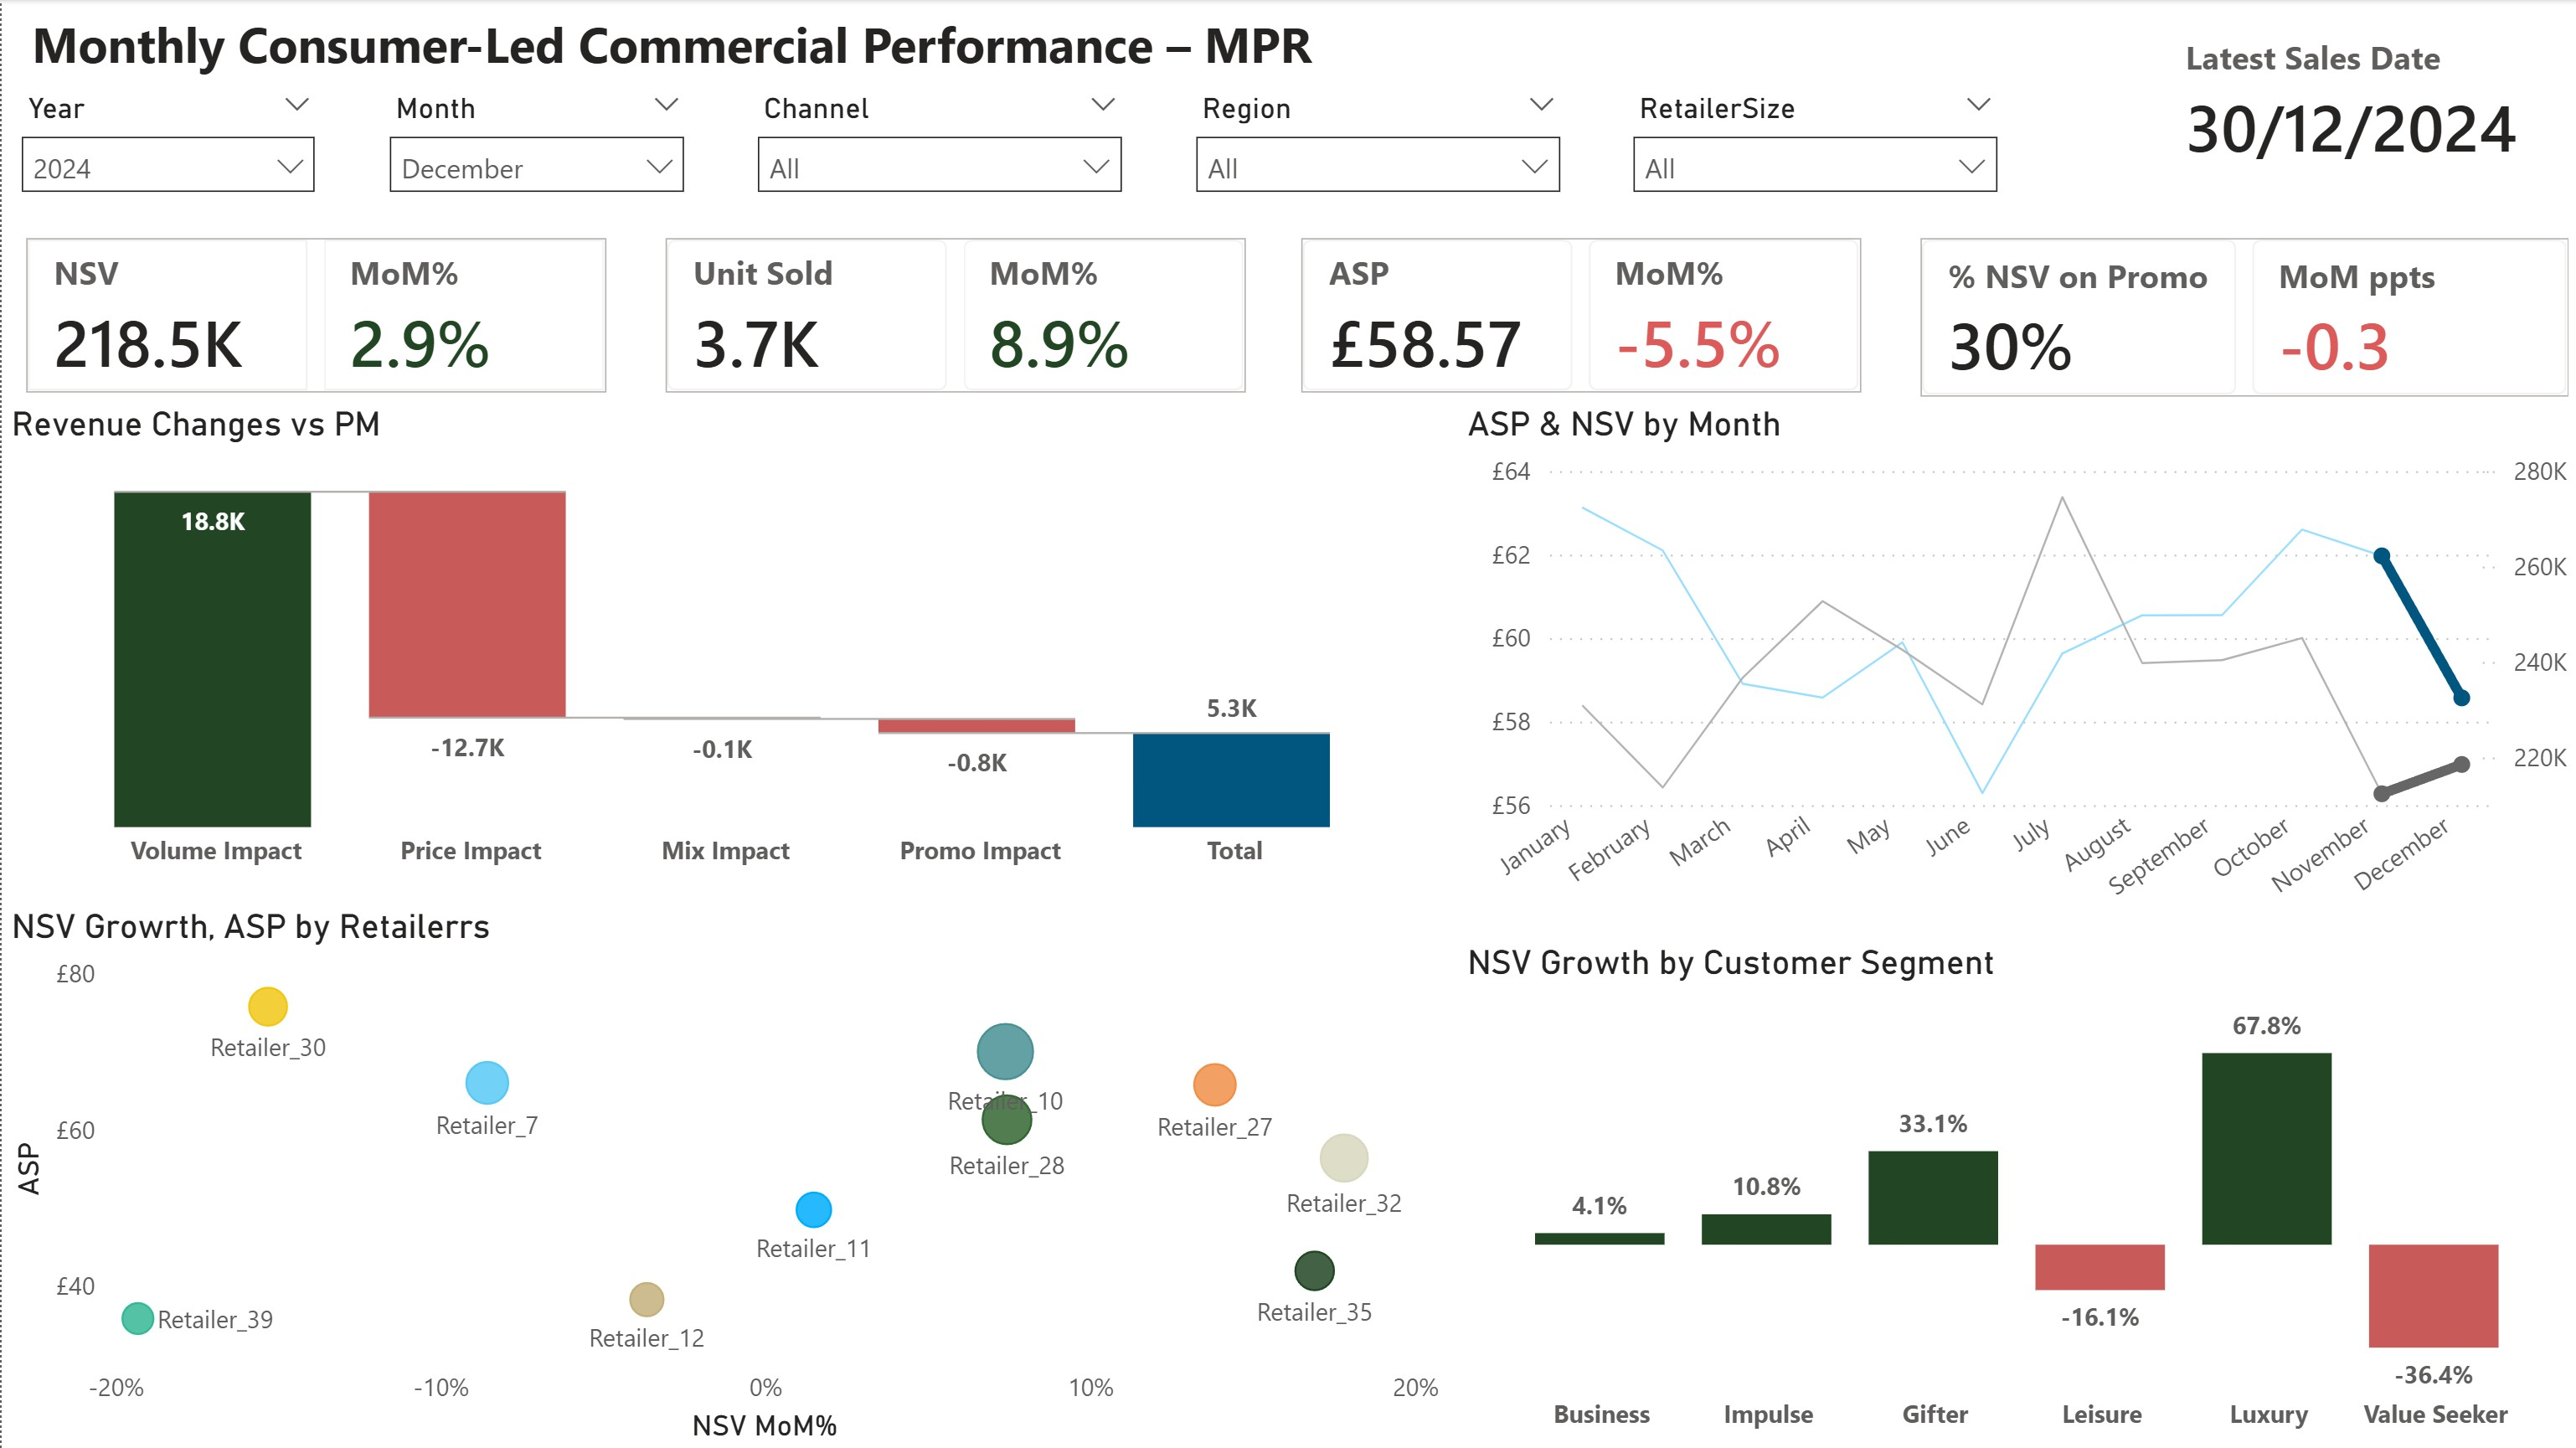

Layout of this report page (visuals, bound fields, positions):
{"tool":"powerbi","page":{"name":"Exec Report","canvas":[1280,720],"ordinal":0},"visuals":[{"type":"textbox","box":[9.9,0,709,44.7],"z":0},{"type":"slicer","fields":{"Values":["dim_date.Year"]},"box":[0,39.8,165.6,67.9],"z":1000},{"type":"slicer","fields":{"Values":["dim_channel.Channel"]},"box":[365.6,39.8,200.4,67.9],"z":2000},{"type":"slicer","fields":{"Values":["dim_retailer.Region"]},"box":[582.8,39.8,200.4,67.9],"z":3000},{"type":"cardVisual","fields":{"Data":["_Measures.NSV","_Measures.NSV MoM%"]},"box":[6.6,112.6,299.8,87.8],"z":4000},{"type":"cardVisual","fields":{"Data":["_Measures.Unit Sold","_Measures.Units MoM%"]},"box":[324.1,112.6,298.2,87.8],"z":5000},{"type":"cardVisual","fields":{"Data":["_Measures.ASP","_Measures.ASP MoM%"]},"box":[640,112.6,289.9,87.8],"z":6000},{"type":"cardVisual","fields":{"Data":["_Measures.% Promotion NSV","_Measures.PromoNSV MoM%"]},"box":[947,112.6,333,89.4],"z":7000},{"type":"waterfallChart","title":"Revenue Changes vs PM","fields":{"Category":["Revenue Bridge KPIs.Category"],"Y":["_Measures.Bridge Values"]},"box":[0,200.5,718.1,249.1],"z":8000},{"type":"clusteredColumnChart","title":"NSV Growth by Customer Segment","fields":{"Category":["dim_consumer_segment.ConsumerType"],"Y":["_Measures.NSV MoM%"]},"box":[722.7,467.6,556.5,252.3],"z":9000},{"type":"scatterChart","title":"NSV Growrth, ASP by Retailerrs","fields":{"Y":["_Measures.ASP"],"X":["_Measures.NSV MoM%"],"Size":["_Measures.NSV"],"Series":["dim_retailer.RetailerName"]},"box":[0,449.8,718.1,270.2],"z":10000},{"type":"slicer","fields":{"Values":["dim_retailer.RetailerSize"]},"box":[800.1,39.8,200.4,67.9],"z":11000},{"type":"slicer","fields":{"Values":["dim_date.MonthName"]},"box":[182.5,39.8,166.3,68],"z":12000},{"type":"cardVisual","fields":{"Data":["Max(fact_sales.Date)"]},"box":[1055.2,0,225.3,101],"z":13000},{"type":"lineChart","title":"ASP & NSV by Month","fields":{"Y":["_Measures.ASP","_Measures.ASP Highlight"],"Y2":["_Measures.NSV","_Measures.NSV highlight"],"Category":["dim_date.MonthName"]},"box":[722.7,200.5,556,267.1],"z":14000}]}

Visuals, with their boxes in screenshot pixels (x1, y1, x2, y2), scaled from the page's 1280x720 canvas onto the 2576x1448 screenshot:
textbox: region(20, 0, 1447, 90)
slicer - dim_date.Year: region(0, 80, 333, 217)
slicer - dim_channel.Channel: region(736, 80, 1139, 217)
slicer - dim_retailer.Region: region(1173, 80, 1576, 217)
cardVisual - _Measures.NSV x _Measures.NSV MoM%: region(13, 226, 616, 403)
cardVisual - _Measures.Unit Sold x _Measures.Units MoM%: region(652, 226, 1252, 403)
cardVisual - _Measures.ASP x _Measures.ASP MoM%: region(1288, 226, 1872, 403)
cardVisual - _Measures.% Promotion NSV x _Measures.PromoNSV MoM%: region(1906, 226, 2575, 406)
"Revenue Changes vs PM" waterfallChart: region(0, 403, 1445, 904)
"NSV Growth by Customer Segment" clusteredColumnChart: region(1455, 940, 2574, 1447)
"NSV Growrth, ASP by Retailerrs" scatterChart: region(0, 904, 1445, 1447)
slicer - dim_retailer.RetailerSize: region(1610, 80, 2013, 217)
slicer - dim_date.MonthName: region(368, 80, 702, 217)
cardVisual - Max(fact_sales.Date): region(2124, 0, 2575, 204)
"ASP & NSV by Month" lineChart: region(1455, 403, 2573, 940)
